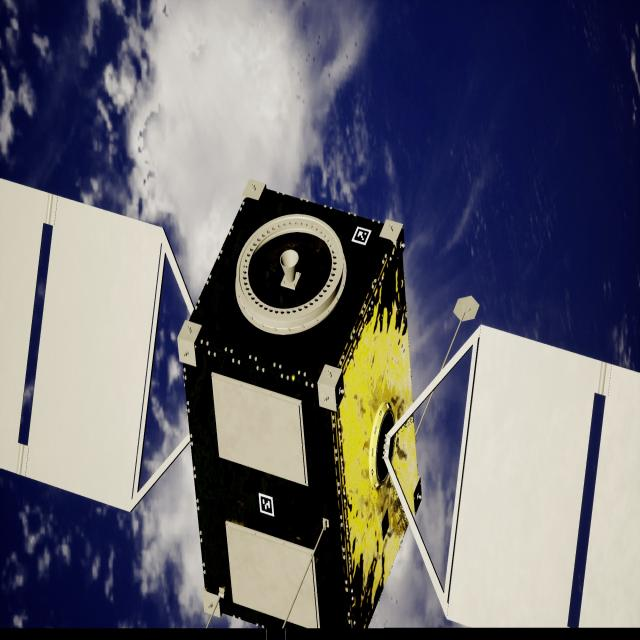medium_debris: (0, 180, 640, 630)
